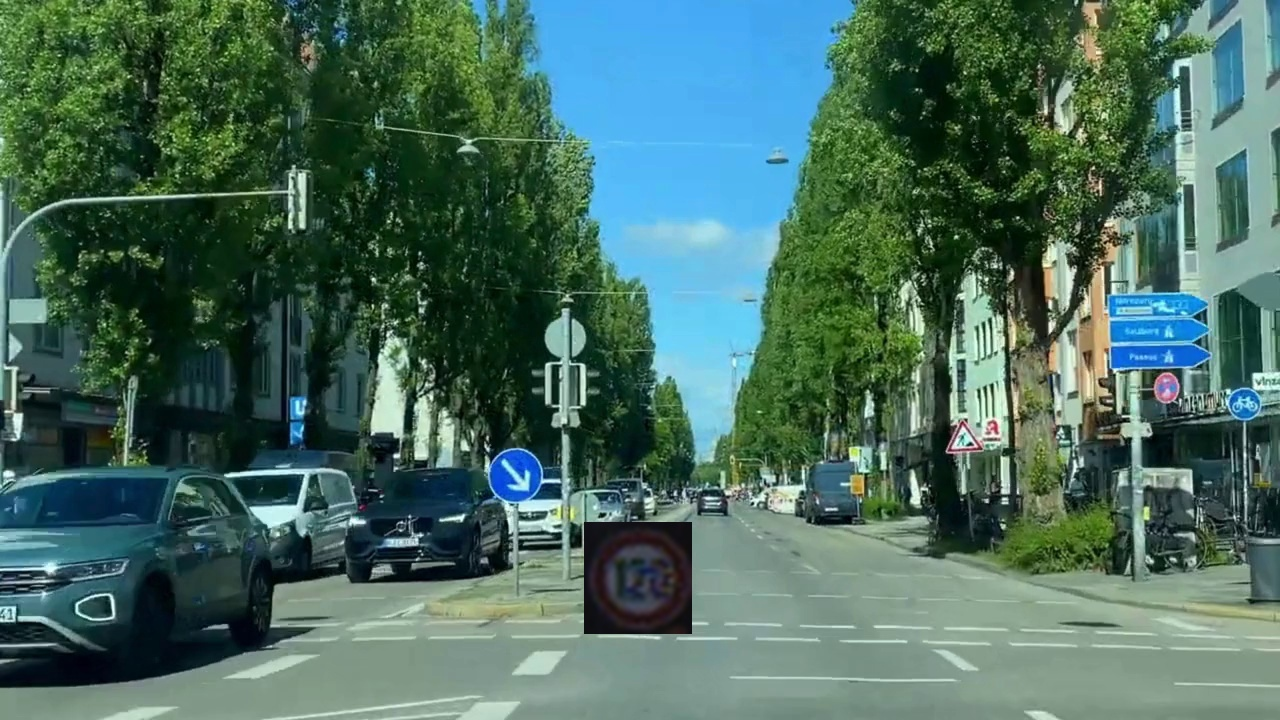Speed 120: (584, 522, 692, 634)
